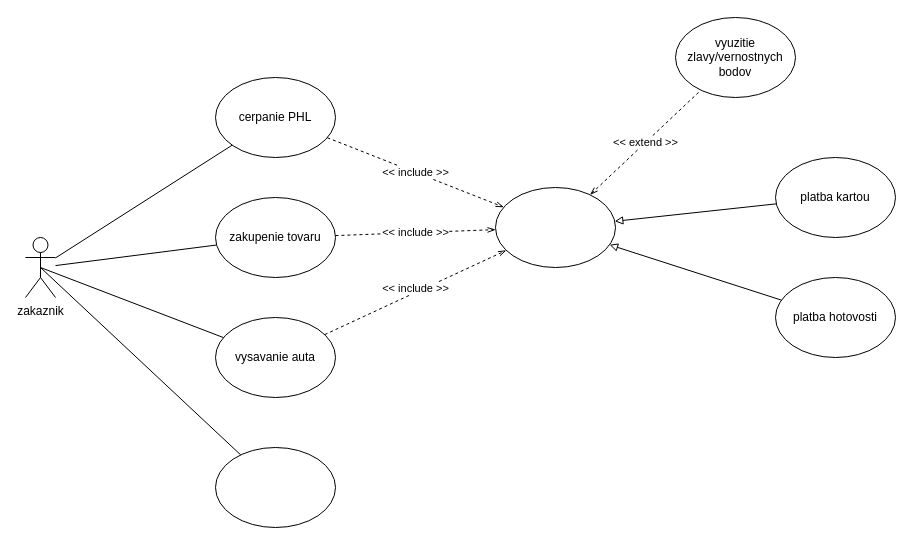
Image size: 913x545. Some labels were removed from this diagram. The shapes that lost their labels are listed below. From the top down, each one's box as (x1, y1, x2, y2) in pixels, then its label:
(494, 186, 616, 268): vykonanie transakcie
(214, 446, 336, 528): fukanie pneumatik
